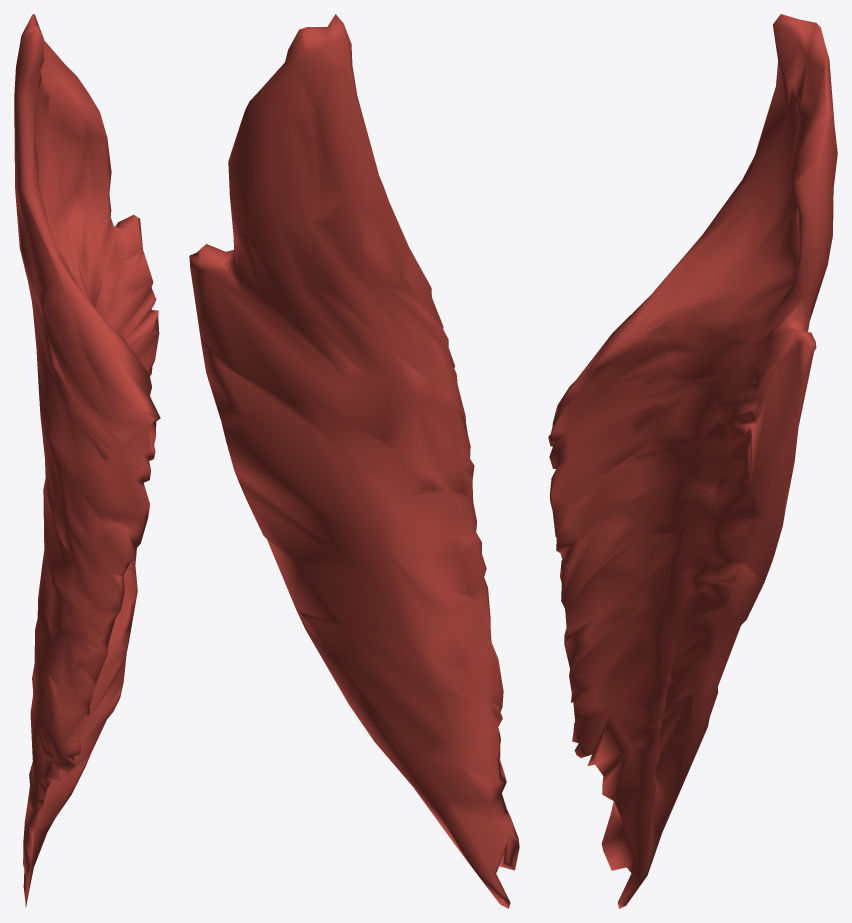
File: musculos-supinator-r.glb
3 renders of one model, left to right at view 1: azimuth 30°, elevation 25°; view 2: azimuth 150°, elevation 25°; view 3: azimuth 270°, elevation 25°, orthographic. The views are drawn at different scales.
Visible parts, largest first — view 1: Supinator.r; view 2: Supinator.r; view 3: Supinator.r.
Part boxes in pixels (bbox=[...]): Supinator.r: bbox=[14, 14, 160, 907]; Supinator.r: bbox=[189, 14, 519, 908]; Supinator.r: bbox=[548, 14, 837, 908].
Bounding box in the file's own units: 0.0328 × 0.1277 × 0.0356.
